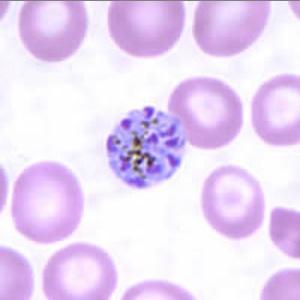Infected: (106, 105, 188, 187)
Uninfected: (12, 161, 84, 243), (167, 76, 244, 150), (201, 164, 266, 238), (106, 0, 186, 58), (18, 0, 88, 62), (194, 0, 270, 56), (43, 243, 117, 300), (253, 73, 300, 146)
